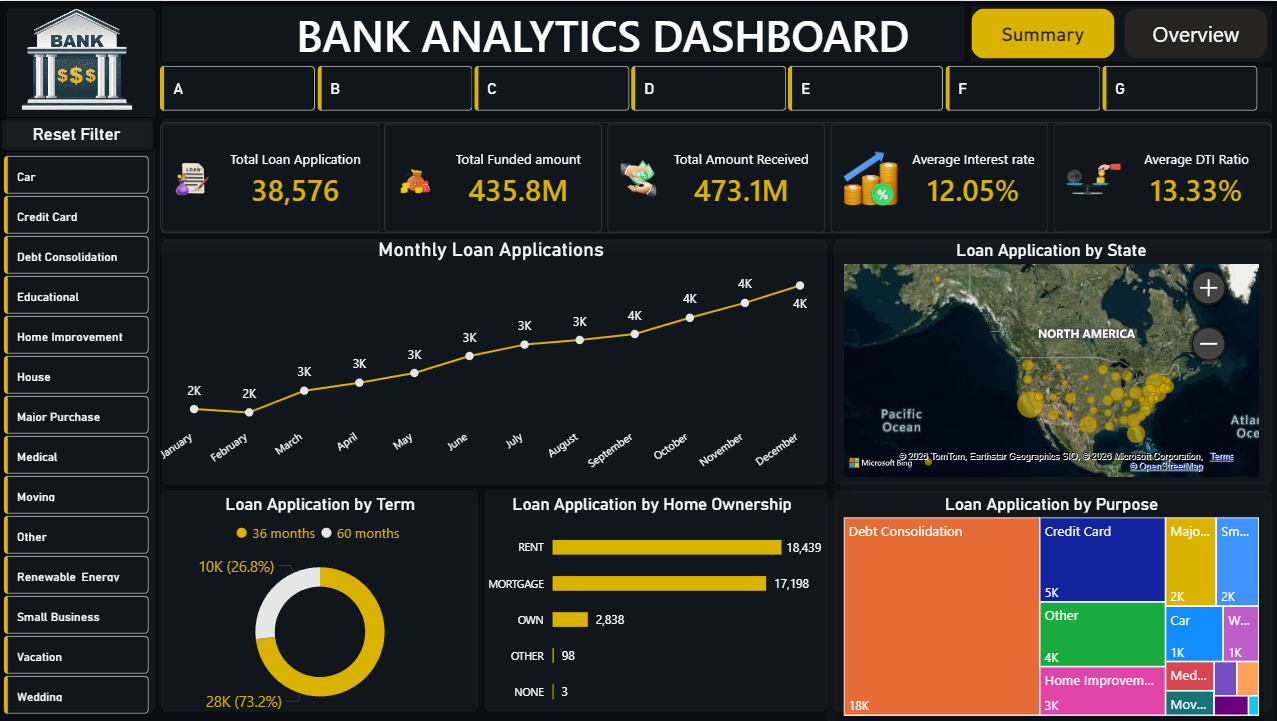

Layout of this report page (visuals, bound fields, positions):
{"tool":"powerbi","page":{"name":"Overview","canvas":[1280,720],"ordinal":1},"visuals":[{"type":"cardVisual","fields":{"Data":["financial_loan.Total Loan Application","financial_loan.Total Funded amount","financial_loan.Total Amount Received","financial_loan.Average Interest rate","financial_loan.Average DTI Rate"]},"box":[155.6,115.8,1124.4,121.9],"z":0},{"type":"image","box":[0,0,155.7,115.7],"z":1000},{"type":"advancedSlicerVisual","fields":{"Values":["financial_loan.PURPOSE"]},"box":[0,150,155.7,570],"z":2000},{"type":"advancedSlicerVisual","fields":{"Values":["financial_loan.GRADE"]},"box":[155.7,60,1108.6,55.7],"z":3000},{"type":"actionButton","box":[0,115.7,155.7,34.3],"z":4000},{"type":"textbox","box":[292.9,0,635.7,78.6],"z":5000},{"type":"map","title":"Loan Application by State","fields":{"Category":["financial_loan.ADDRESS_STATE"],"Size":["financial_loan.Total Loan Application"]},"box":[839.7,238.9,424.7,242.5],"z":6000},{"type":"pageNavigator","box":[972.4,7.2,297.2,50.5],"z":7000},{"type":"lineChart","title":"Monthly Loan Applications","fields":{"Category":["financial_loan.ISSUE_DATE.Variation.Date Hierarchy.Month"],"Y":["financial_loan.Total Loan Application"]},"box":[155.6,237.7,672,242.5],"z":8000},{"type":"donutChart","title":"Loan Application by Term","fields":{"Category":["financial_loan.TERM"],"Y":["financial_loan.Total Loan Application"]},"box":[164.1,492.2,314.9,228],"z":8001},{"type":"clusteredBarChart","title":"Loan Application by Home Ownership","fields":{"Category":["financial_loan.HOME_OWNERSHIP"],"Y":["financial_loan.Total Loan Application"]},"box":[479,492.2,348.7,226.8],"z":8002},{"type":"treemap","title":"Loan Application by Purpose","fields":{"Group":["financial_loan.PURPOSE"],"Values":["financial_loan.Total Loan Application"]},"box":[840,492,425,227],"z":8003}]}

Visuals, with their boxes in screenshot pixels (x1, y1, x2, y2), scaled from the page's 1280x720 canvas onto the 1277x721 screenshot:
cardVisual - financial_loan.Total Loan Application x financial_loan.Total Funded amount: left=155, top=116, right=1276, bottom=238
image: left=0, top=0, right=155, bottom=116
advancedSlicerVisual - financial_loan.PURPOSE: left=0, top=150, right=155, bottom=720
advancedSlicerVisual - financial_loan.GRADE: left=155, top=60, right=1261, bottom=116
actionButton: left=0, top=116, right=155, bottom=150
textbox: left=292, top=0, right=926, bottom=79
"Loan Application by State" map: left=838, top=239, right=1261, bottom=482
pageNavigator: left=970, top=7, right=1267, bottom=58
"Monthly Loan Applications" lineChart: left=155, top=238, right=826, bottom=481
"Loan Application by Term" donutChart: left=164, top=493, right=478, bottom=720
"Loan Application by Home Ownership" clusteredBarChart: left=478, top=493, right=826, bottom=720
"Loan Application by Purpose" treemap: left=838, top=493, right=1262, bottom=720
